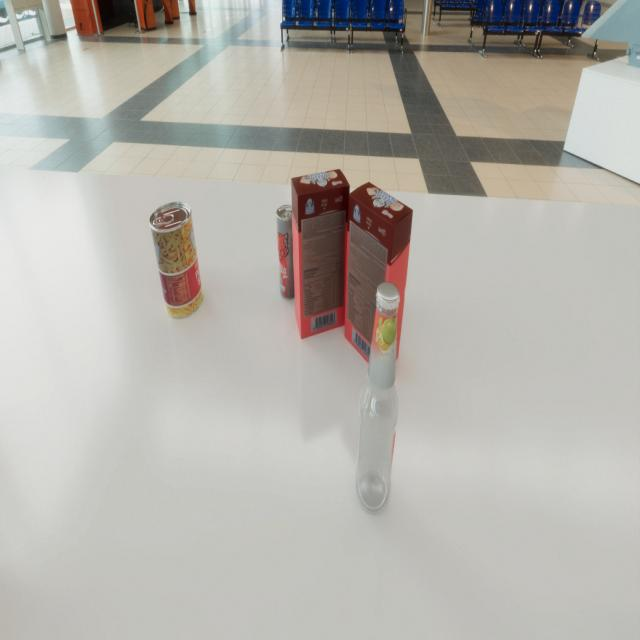Bottle: (354, 281, 400, 514)
HelloPanda: (344, 182, 413, 377), (291, 169, 350, 339)
Potato_sticks: (149, 202, 203, 319)
Rita_zero_sugar: (276, 205, 299, 300)
